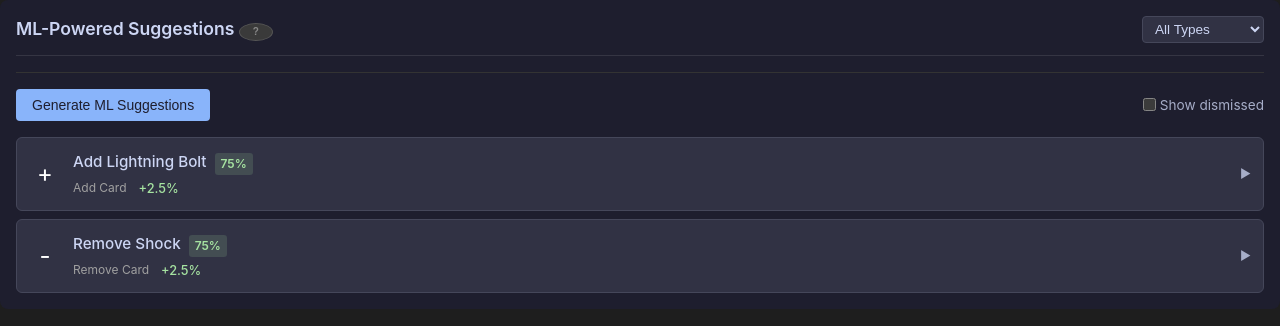
MLSuggestionsPanel › Filter by Type › should filter suggestions by type
The width and height of the screenshot is (1280, 326).
expect the heading "Add Lightning Bolt" is shown: met, box [73, 151, 206, 174]
expect the heading "Remove Shock" is shown: met, box [73, 233, 181, 256]
Filter by add
Select "Add Card" in the dropdown. click: [1203, 30]
box: [1142, 16, 1264, 43]
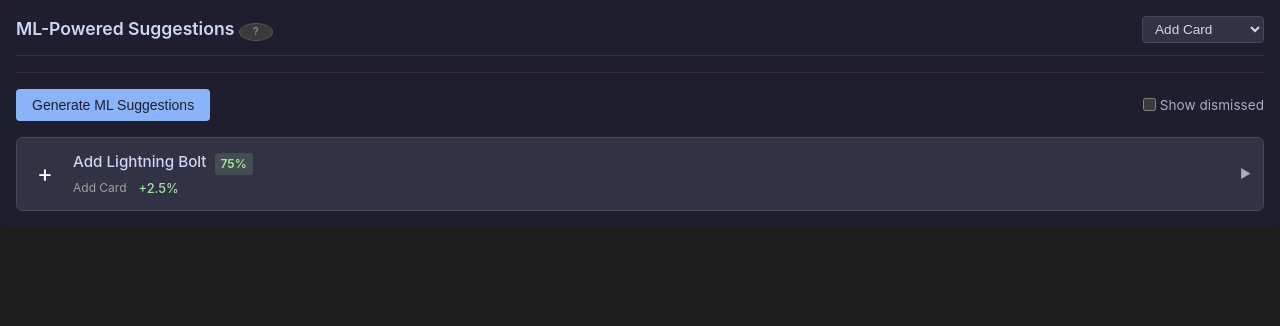
expect the heading "Add Lightning Bolt" is shown: met, box [73, 151, 206, 174]
expect the heading "Remove Shock" is gone: met
